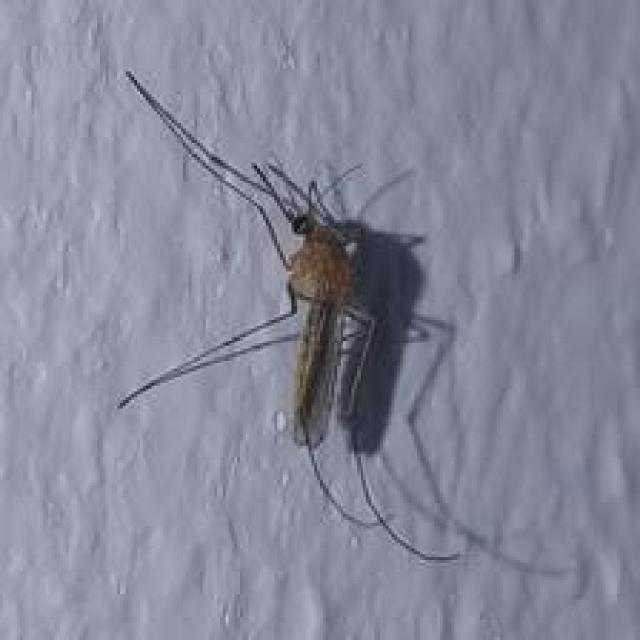Culex: (114, 67, 469, 564)
